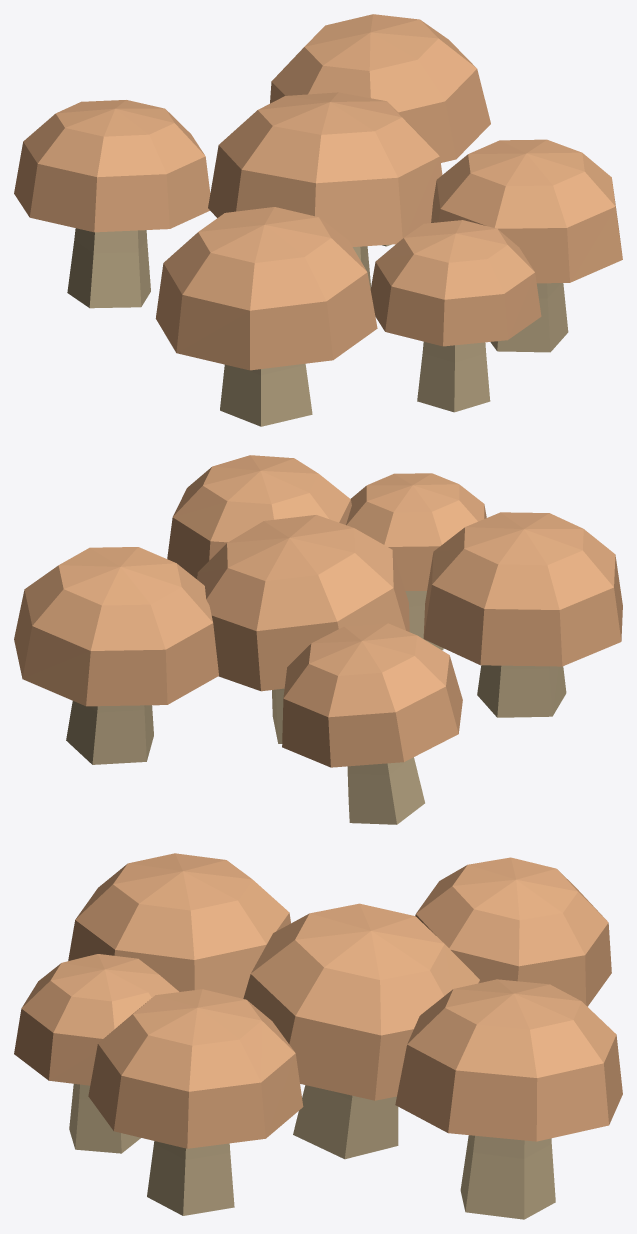
Rendered from plant_nutrifungus_a.obj.
3 renders of one model, top to bottom at view 1: azimuth 30°, elevation 25°; view 2: azimuth 150°, elevation 25°; view 3: azimuth 270°, elevation 25°, orthographic. The views are drawn at different scales.
Visible parts, largest first — view 1: plant_nutrifungus_a_1, plant_nutrifungus_a_5, plant_nutrifungus_a_7, plant_nutrifungus_a_3, plant_nutrifungus_a_9, plant_nutrifungus_a_11, plant_nutrifungus_a_6, plant_nutrifungus_a_0, plant_nutrifungus_a_10, plant_nutrifungus_a_2; view 2: plant_nutrifungus_a_9, plant_nutrifungus_a_1, plant_nutrifungus_a_5, plant_nutrifungus_a_7, plant_nutrifungus_a_3, plant_nutrifungus_a_11, plant_nutrifungus_a_8, plant_nutrifungus_a_6, plant_nutrifungus_a_0, plant_nutrifungus_a_10, plant_nutrifungus_a_4; view 3: plant_nutrifungus_a_9, plant_nutrifungus_a_5, plant_nutrifungus_a_3, plant_nutrifungus_a_1, plant_nutrifungus_a_7, plant_nutrifungus_a_11, plant_nutrifungus_a_8, plant_nutrifungus_a_4, plant_nutrifungus_a_2, plant_nutrifungus_a_10.
Part boxes in pixels (x1,y1,x2,y2): plant_nutrifungus_a_1: (155,207,377,370); plant_nutrifungus_a_5: (208,92,442,246); plant_nutrifungus_a_7: (14,100,210,232); plant_nutrifungus_a_3: (431,139,622,283); plant_nutrifungus_a_9: (270,14,490,162); plant_nutrifungus_a_11: (370,220,541,346); plant_nutrifungus_a_6: (67,228,150,308); plant_nutrifungus_a_0: (220,363,312,426); plant_nutrifungus_a_10: (417,342,490,412); plant_nutrifungus_a_2: (490,283,568,352); plant_nutrifungus_a_9: (14,547,218,706); plant_nutrifungus_a_1: (423,512,622,666); plant_nutrifungus_a_5: (197,515,409,691); plant_nutrifungus_a_7: (282,623,462,767); plant_nutrifungus_a_3: (167,455,351,579); plant_nutrifungus_a_11: (346,473,486,590); plant_nutrifungus_a_8: (66,701,153,764); plant_nutrifungus_a_6: (347,757,424,824); plant_nutrifungus_a_0: (477,665,566,717); plant_nutrifungus_a_10: (405,591,443,650); plant_nutrifungus_a_4: (272,688,284,743); plant_nutrifungus_a_9: (395,979,622,1141); plant_nutrifungus_a_5: (243,903,480,1100); plant_nutrifungus_a_3: (88,989,303,1148); plant_nutrifungus_a_1: (68,853,290,998); plant_nutrifungus_a_7: (415,857,611,1006); plant_nutrifungus_a_11: (14,954,178,1085); plant_nutrifungus_a_8: (460,1135,555,1219); plant_nutrifungus_a_4: (293,1085,398,1159); plant_nutrifungus_a_2: (147,1141,234,1215); plant_nutrifungus_a_10: (69,1084,140,1153).
Size of the model in its own units: 1.24 by 0.5304 by 1.36.
